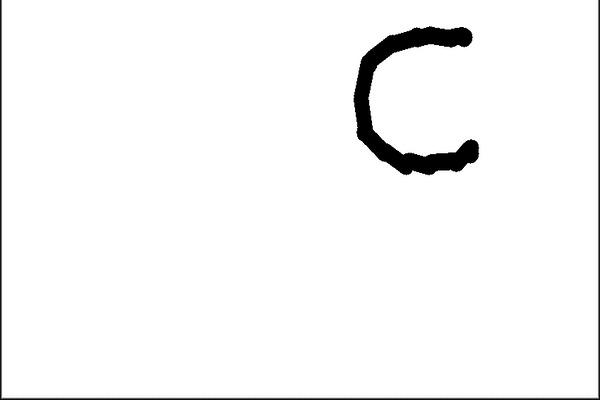C: (351, 23, 488, 177)
